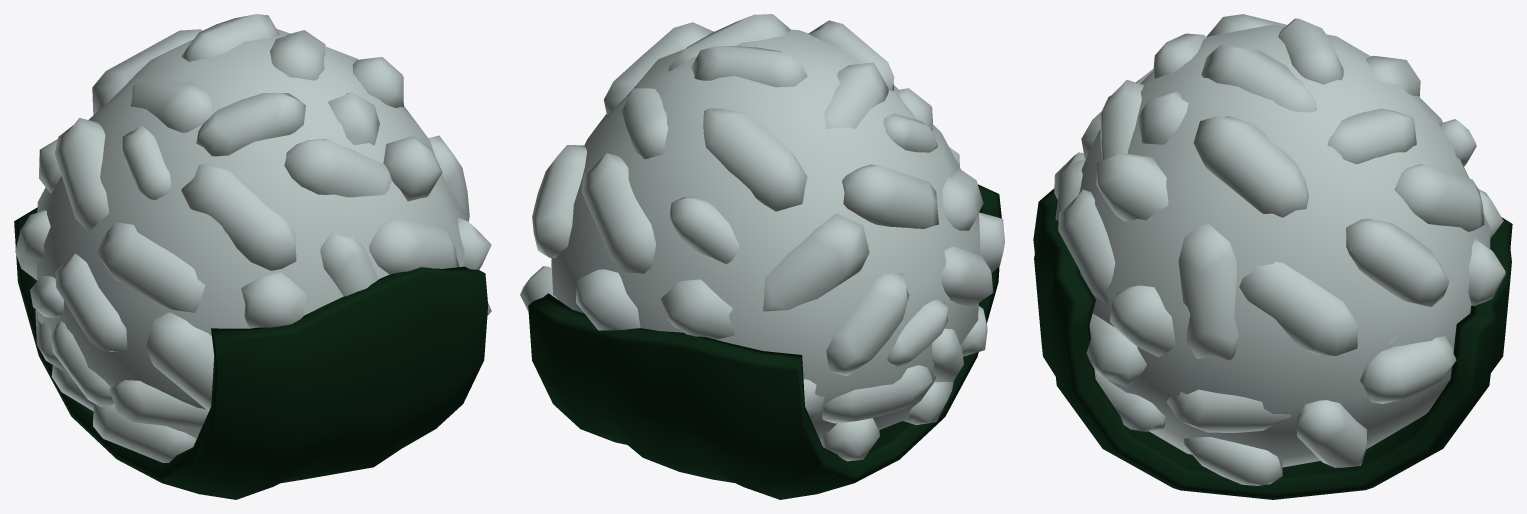
Rendered from Rice_Ing.fbx.
3 renders of one model, left to right at view 1: azimuth 30°, elevation 25°; view 2: azimuth 150°, elevation 25°; view 3: azimuth 270°, elevation 25°, orthographic.
Parts seen in each view (by area): view 1: RiceBun1; view 2: RiceBun1; view 3: RiceBun1.
Boxes of the visible parts, x1,y1,x2,y2 form: RiceBun1: [14, 14, 491, 499]; RiceBun1: [520, 14, 1004, 499]; RiceBun1: [1033, 14, 1512, 499].
Bounding box in the file's own units: 56.34 × 57.48 × 58.16.
